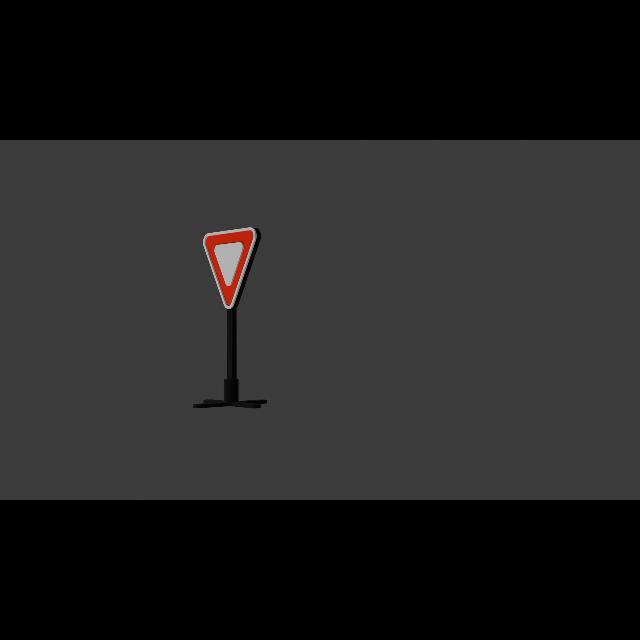sign_yield: (204, 228, 259, 310)
